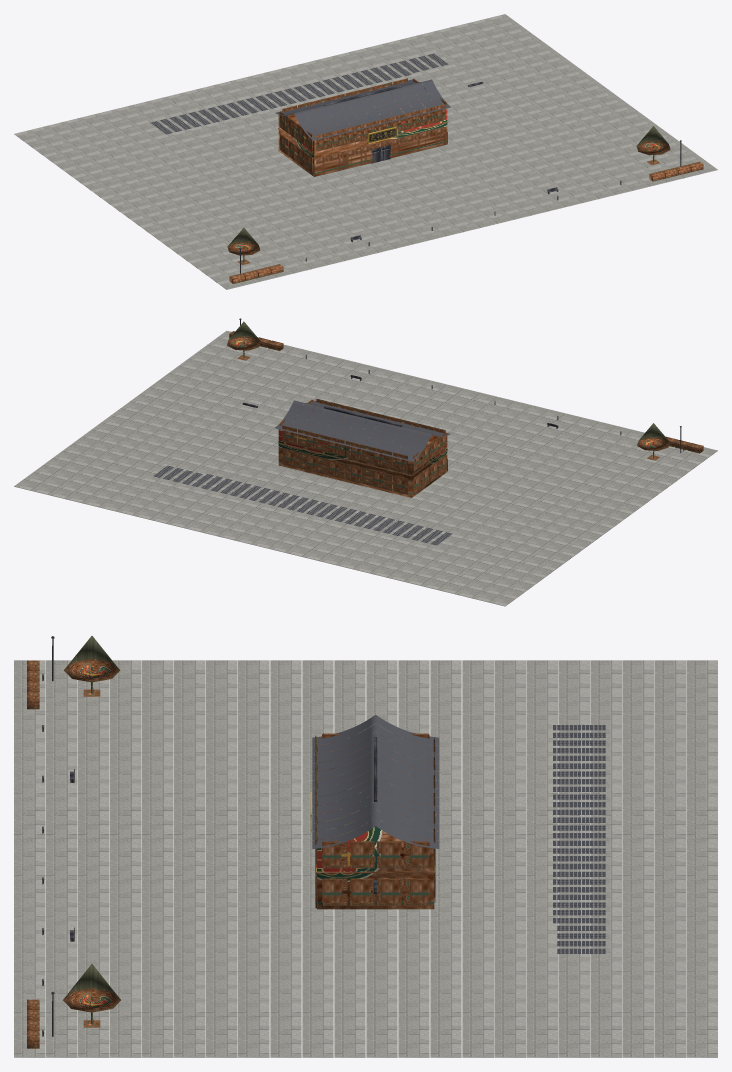
The picture shows the model from 3 angles, top to bottom: view 1: azimuth 30°, elevation 25°; view 2: azimuth 150°, elevation 25°; view 3: azimuth 270°, elevation 25°; orthographic projection. The views are drawn at different scales.
Visible parts, largest first — view 1: 11680_01_06030_012_01__plinth_ground_base, 11680_01_06030_012_03__roof_deck_structure, 11680_01_06030_012_02__mass_body_facade, 11680_01_06030_012_06__landscape_greenery, 11680_01_06030_012_05__window_sash_glass, 11680_01_06030_012_05__door_hardware_iron; view 2: 11680_01_06030_012_01__plinth_ground_base, 11680_01_06030_012_03__roof_deck_structure, 11680_01_06030_012_02__mass_body_facade, 11680_01_06030_012_06__landscape_greenery; view 3: 11680_01_06030_012_01__plinth_ground_base, 11680_01_06030_012_03__roof_deck_structure, 11680_01_06030_012_02__mass_body_facade, 11680_01_06030_012_06__landscape_greenery.
Boxes of the visible parts, box(x1,y1,x2,y2) form: 11680_01_06030_012_01__plinth_ground_base: box(14, 14, 717, 289); 11680_01_06030_012_03__roof_deck_structure: box(150, 53, 450, 140); 11680_01_06030_012_02__mass_body_facade: box(278, 78, 447, 176); 11680_01_06030_012_06__landscape_greenery: box(227, 126, 703, 283); 11680_01_06030_012_05__window_sash_glass: box(316, 104, 445, 170); 11680_01_06030_012_05__door_hardware_iron: box(239, 140, 683, 273); 11680_01_06030_012_01__plinth_ground_base: box(14, 330, 717, 606); 11680_01_06030_012_03__roof_deck_structure: box(153, 400, 452, 545); 11680_01_06030_012_02__mass_body_facade: box(278, 399, 447, 497); 11680_01_06030_012_06__landscape_greenery: box(227, 321, 703, 460); 11680_01_06030_012_01__plinth_ground_base: box(14, 660, 717, 1057); 11680_01_06030_012_03__roof_deck_structure: box(312, 714, 605, 953); 11680_01_06030_012_02__mass_body_facade: box(315, 733, 435, 909); 11680_01_06030_012_06__landscape_greenery: box(27, 636, 120, 1048).
Bounding box in the file's own units: 95.95 × 10.25 × 71.95.
Materials: 7 (7 with a texture image).
